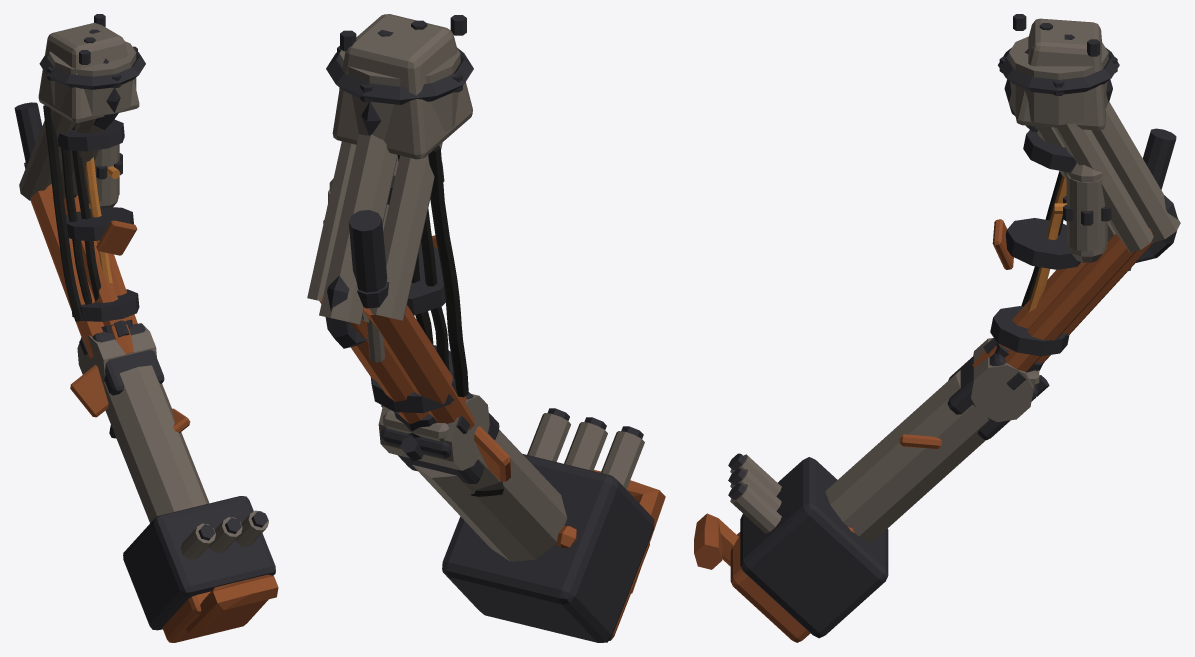
The model's file is ar_maul.glb.
3 renders of one model, left to right at view 1: azimuth 30°, elevation 25°; view 2: azimuth 150°, elevation 25°; view 3: azimuth 270°, elevation 25°, orthographic. The views are drawn at different scales.
Visible parts, largest first — view 1: ar_maul; view 2: ar_maul; view 3: ar_maul.
Part boxes in pixels (bbox=[...]): ar_maul: bbox=[14, 14, 278, 642]; ar_maul: bbox=[307, 14, 665, 642]; ar_maul: bbox=[694, 14, 1180, 642].
Size of the model in its own units: 0.1083 by 0.5442 by 0.4042.
